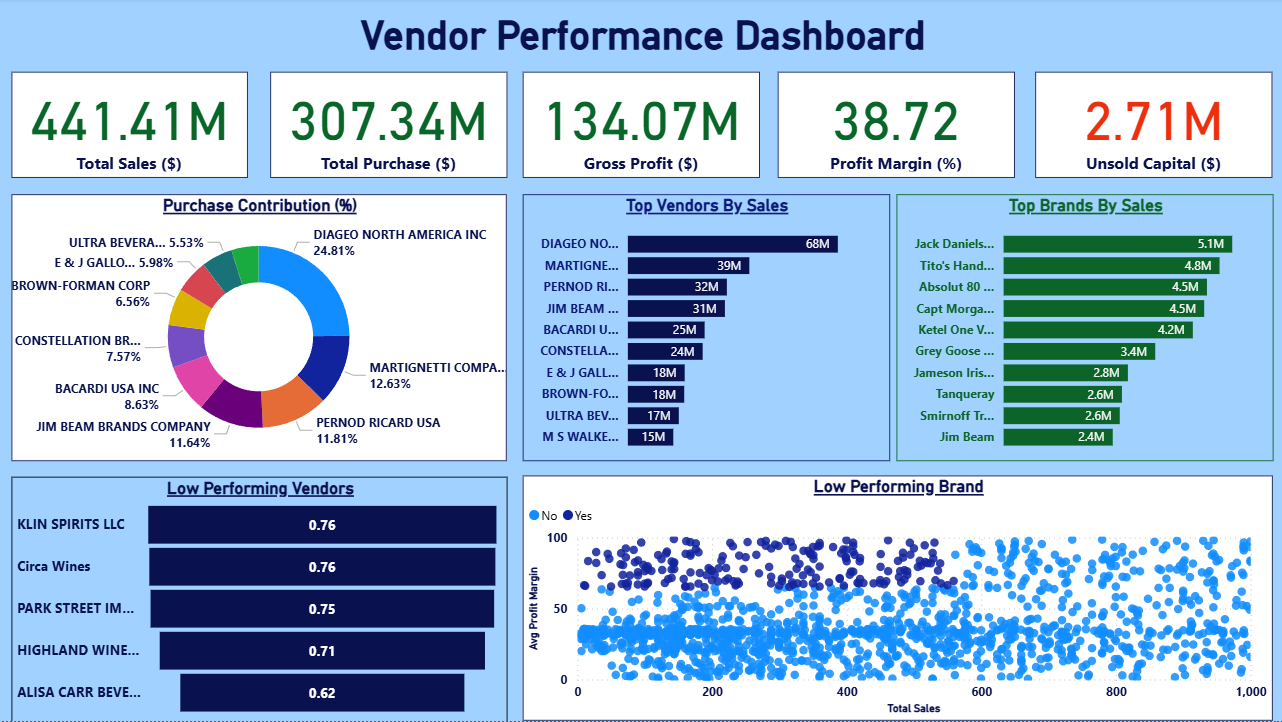

This screenshot's page, from the dashboard's own definition file:
{"tool":"powerbi","page":{"name":"Page 1","canvas":[1280,720],"ordinal":0},"visuals":[{"type":"card","fields":{"Values":["Sum(vendor_sales_summary.TotalSalesDollars)"]},"box":[12.4,73.4,235.1,105.7],"z":0},{"type":"card","fields":{"Values":["Sum(vendor_sales_summary.TotalPurchaseDollars)"]},"box":[269.9,73.4,236.4,105.7],"z":1000},{"type":"card","fields":{"Values":["Sum(vendor_sales_summary.GrossProfit)"]},"box":[521.2,73.4,236.4,105.7],"z":2000},{"type":"card","fields":{"Values":["Avg(vendor_sales_summary.ProfitMargin)"]},"box":[775,73.4,236.4,105.7],"z":3000},{"type":"card","fields":{"Values":["Sum(vendor_sales_summary.UnsoldCapital)"]},"box":[1031.2,73.4,236.4,105.7],"z":4000},{"type":"donutChart","title":"Purchase Contribution (%) ","fields":{"Category":["PurchaseContribution.VendorName"],"Y":["Sum(PurchaseContribution.PurchaseContribution%)"]},"box":[12.7,194.8,492.6,265.4],"z":5000},{"type":"clusteredBarChart","title":"Top Vendors By Sales","fields":{"Category":["vendor_sales_summary.VendorName"],"Y":["Sum(vendor_sales_summary.TotalSalesDollars)"]},"box":[520.9,194.8,365.6,265.4],"z":6000},{"type":"clusteredBarChart","title":"Top Brands By Sales","fields":{"Category":["vendor_sales_summary.Description"],"Y":["Sum(vendor_sales_summary.TotalSalesDollars)"]},"box":[893.5,194.8,375.5,265.4],"z":7000},{"type":"funnel","title":"Low Performing Vendors","fields":{"Category":["LowTurnoverVendor.VendorName"],"Y":["Sum(LowTurnoverVendor.AvgStockTurnover)"]},"box":[12.3,476.2,494,244.3],"z":8000},{"type":"scatterChart","title":"Low Performing Brand","fields":{"Category":["BrandPerformance.Description"],"X":["Sum(BrandPerformance.TotalSales)"],"Y":["Sum(BrandPerformance.AvgProfitMargin)"],"Series":["BrandPerformance.TargetBrand"]},"box":[520.9,475.7,746.7,244.2],"z":9000},{"type":"shape","title":"Vendor  Performance Dashboard","box":[12.3,13.7,1257,48],"z":9001}]}

Visuals, with their boxes in screenshot pixels (x1, y1, x2, y2), scaled from the page's 1280x720 canvas onto the 1282x722 screenshot:
card - Sum(vendor_sales_summary.TotalSalesDollars): 12, 74, 248, 180
card - Sum(vendor_sales_summary.TotalPurchaseDollars): 270, 74, 507, 180
card - Sum(vendor_sales_summary.GrossProfit): 522, 74, 759, 180
card - Avg(vendor_sales_summary.ProfitMargin): 776, 74, 1013, 180
card - Sum(vendor_sales_summary.UnsoldCapital): 1033, 74, 1270, 180
"Purchase Contribution (%) " donutChart: 13, 195, 506, 461
"Top Vendors By Sales" clusteredBarChart: 522, 195, 888, 461
"Top Brands By Sales" clusteredBarChart: 895, 195, 1271, 461
"Low Performing Vendors" funnel: 12, 478, 507, 721
"Low Performing Brand" scatterChart: 522, 477, 1270, 721
"Vendor  Performance Dashboard" shape: 12, 14, 1271, 62
